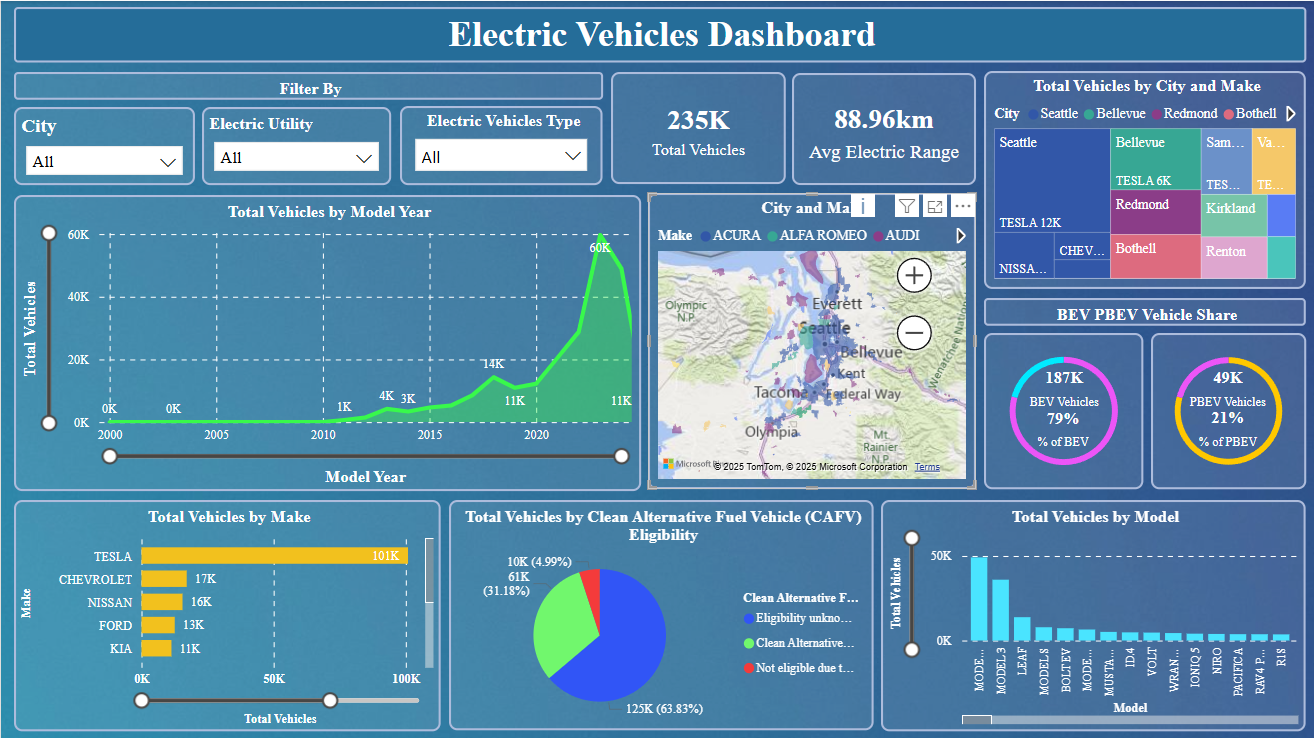

The dashboard page shown, as its layout file describes it:
{"tool":"powerbi","page":{"name":"Page 1","canvas":[1280,720],"ordinal":7},"visuals":[{"type":"barChart","fields":{"Category":["Electric_Vehicle_Population_Data.Make"],"Y":["Electric_Vehicle_Population_Data.Total Vehicles"]},"box":[12.4,485,415,225.2],"z":0},{"type":"pieChart","fields":{"Category":["Electric_Vehicle_Population_Data.Clean Alternative Fuel Vehicle (CAFV) Eligibility"],"Y":["Electric_Vehicle_Population_Data.Total Vehicles"]},"box":[435.4,485,413.2,224.3],"z":1000},{"type":"areaChart","fields":{"Category":["Electric_Vehicle_Population_Data.Model Year"],"Y":["Electric_Vehicle_Population_Data.Total Vehicles"]},"box":[12.6,188.7,609.8,287.9],"z":2000},{"type":"lineClusteredColumnComboChart","fields":{"Category":["Electric_Vehicle_Population_Data.Model"],"Y":["Electric_Vehicle_Population_Data.Total Vehicles"]},"box":[855.9,485.3,413.4,224.7],"z":3000},{"type":"filledMap","fields":{"Category":["Electric_Vehicle_Population_Data.City"],"Series":["Electric_Vehicle_Population_Data.Make"]},"box":[629.3,186.7,319,287.9],"z":4000},{"type":"donutChart","title":"Avg Electric Range","fields":{"Y":["Electric_Vehicle_Population_Data.Total Vehicles"],"Category":["Electric_Vehicle_Population_Data.Electric Vehicle Type"]},"box":[956.1,322.9,155.2,151.6],"z":5000},{"type":"card","fields":{"Values":["Electric_Vehicle_Population_Data.BEV Vehicles"]},"box":[966.7,338,134.8,72.7],"z":6000},{"type":"card","fields":{"Values":["Electric_Vehicle_Population_Data.% of BEV"]},"box":[965.9,378.8,134.8,71.8],"z":7000},{"type":"donutChart","title":"Avg Electric Range","fields":{"Y":["Electric_Vehicle_Population_Data.Total Vehicles"],"Category":["Electric_Vehicle_Population_Data.Electric Vehicle Type"]},"box":[1118.4,322.9,150.7,151.6],"z":8000},{"type":"card","fields":{"Values":["Electric_Vehicle_Population_Data.PBEV Vehicles"]},"box":[1126.4,338,133.9,72.7],"z":9000},{"type":"card","fields":{"Values":["Electric_Vehicle_Population_Data.% of PBEV"]},"box":[1137.9,377.9,110.8,70.9],"z":10000},{"type":"textbox","title":"BEV PBEV Vehicle Share","box":[956.4,289.3,313.2,27.2],"z":11000},{"type":"treemap","fields":{"Group":["Electric_Vehicle_Population_Data.City","Electric_Vehicle_Population_Data.Model"],"Details":["Electric_Vehicle_Population_Data.Make"],"Values":["Electric_Vehicle_Population_Data.Total Vehicles"]},"box":[956.1,68.1,313.2,212],"z":12000},{"type":"card","fields":{"Values":["Electric_Vehicle_Population_Data.Total Vehicles"]},"box":[593.3,69.1,170.2,108.9],"z":13000},{"type":"card","title":"Avg Electric Range","fields":{"Values":["Electric_Vehicle_Population_Data.Avg Electric Range"]},"box":[769.4,70,179,108.9],"z":14000},{"type":"slicer","title":"City","fields":{"Values":["Electric_Vehicle_Population_Data.City"]},"box":[12.6,103.1,176,75.9],"z":15000},{"type":"slicer","title":"Electric Utility","fields":{"Values":["Electric_Vehicle_Population_Data.Electric Utility"]},"box":[195.5,103.1,183.8,75.9],"z":16000},{"type":"slicer","title":"Electric Vehicles Type","fields":{"Values":["Electric_Vehicle_Population_Data.Electric Vehicle Type"]},"box":[388.1,102.1,197.4,76.8],"z":17000},{"type":"textbox","title":"Filter By","box":[12.6,69.1,572.9,27.2],"z":18000},{"type":"textbox","title":"Electric Vehicles Dashboard","box":[12.6,5.8,1256.7,54.5],"z":19000}]}

Visuals, with their boxes in screenshot pixels (x1, y1, x2, y2), scaled from the page's 1280x720 canvas onto the 1314x738 screenshot:
barChart - Electric_Vehicle_Population_Data.Make x Electric_Vehicle_Population_Data.Total Vehicles: region(13, 497, 439, 728)
pieChart - Electric_Vehicle_Population_Data.Clean Alternative Fuel Vehicle (CAFV) Eligibility x Electric_Vehicle_Population_Data.Total Vehicles: region(447, 497, 871, 727)
areaChart - Electric_Vehicle_Population_Data.Model Year x Electric_Vehicle_Population_Data.Total Vehicles: region(13, 193, 639, 489)
lineClusteredColumnComboChart - Electric_Vehicle_Population_Data.Model x Electric_Vehicle_Population_Data.Total Vehicles: region(879, 497, 1303, 728)
filledMap - Electric_Vehicle_Population_Data.City x Electric_Vehicle_Population_Data.Make: region(646, 191, 973, 486)
"Avg Electric Range" donutChart: region(981, 331, 1141, 486)
card - Electric_Vehicle_Population_Data.BEV Vehicles: region(992, 346, 1131, 421)
card - Electric_Vehicle_Population_Data.% of BEV: region(992, 388, 1130, 462)
"Avg Electric Range" donutChart: region(1148, 331, 1303, 486)
card - Electric_Vehicle_Population_Data.PBEV Vehicles: region(1156, 346, 1294, 421)
card - Electric_Vehicle_Population_Data.% of PBEV: region(1168, 387, 1282, 460)
"BEV PBEV Vehicle Share" textbox: region(982, 297, 1303, 324)
treemap - Electric_Vehicle_Population_Data.City x Electric_Vehicle_Population_Data.Model: region(981, 70, 1303, 287)
card - Electric_Vehicle_Population_Data.Total Vehicles: region(609, 71, 784, 182)
"Avg Electric Range" card: region(790, 72, 974, 183)
"City" slicer: region(13, 106, 194, 183)
"Electric Utility" slicer: region(201, 106, 389, 183)
"Electric Vehicles Type" slicer: region(398, 105, 601, 183)
"Filter By" textbox: region(13, 71, 601, 99)
"Electric Vehicles Dashboard" textbox: region(13, 6, 1303, 62)
